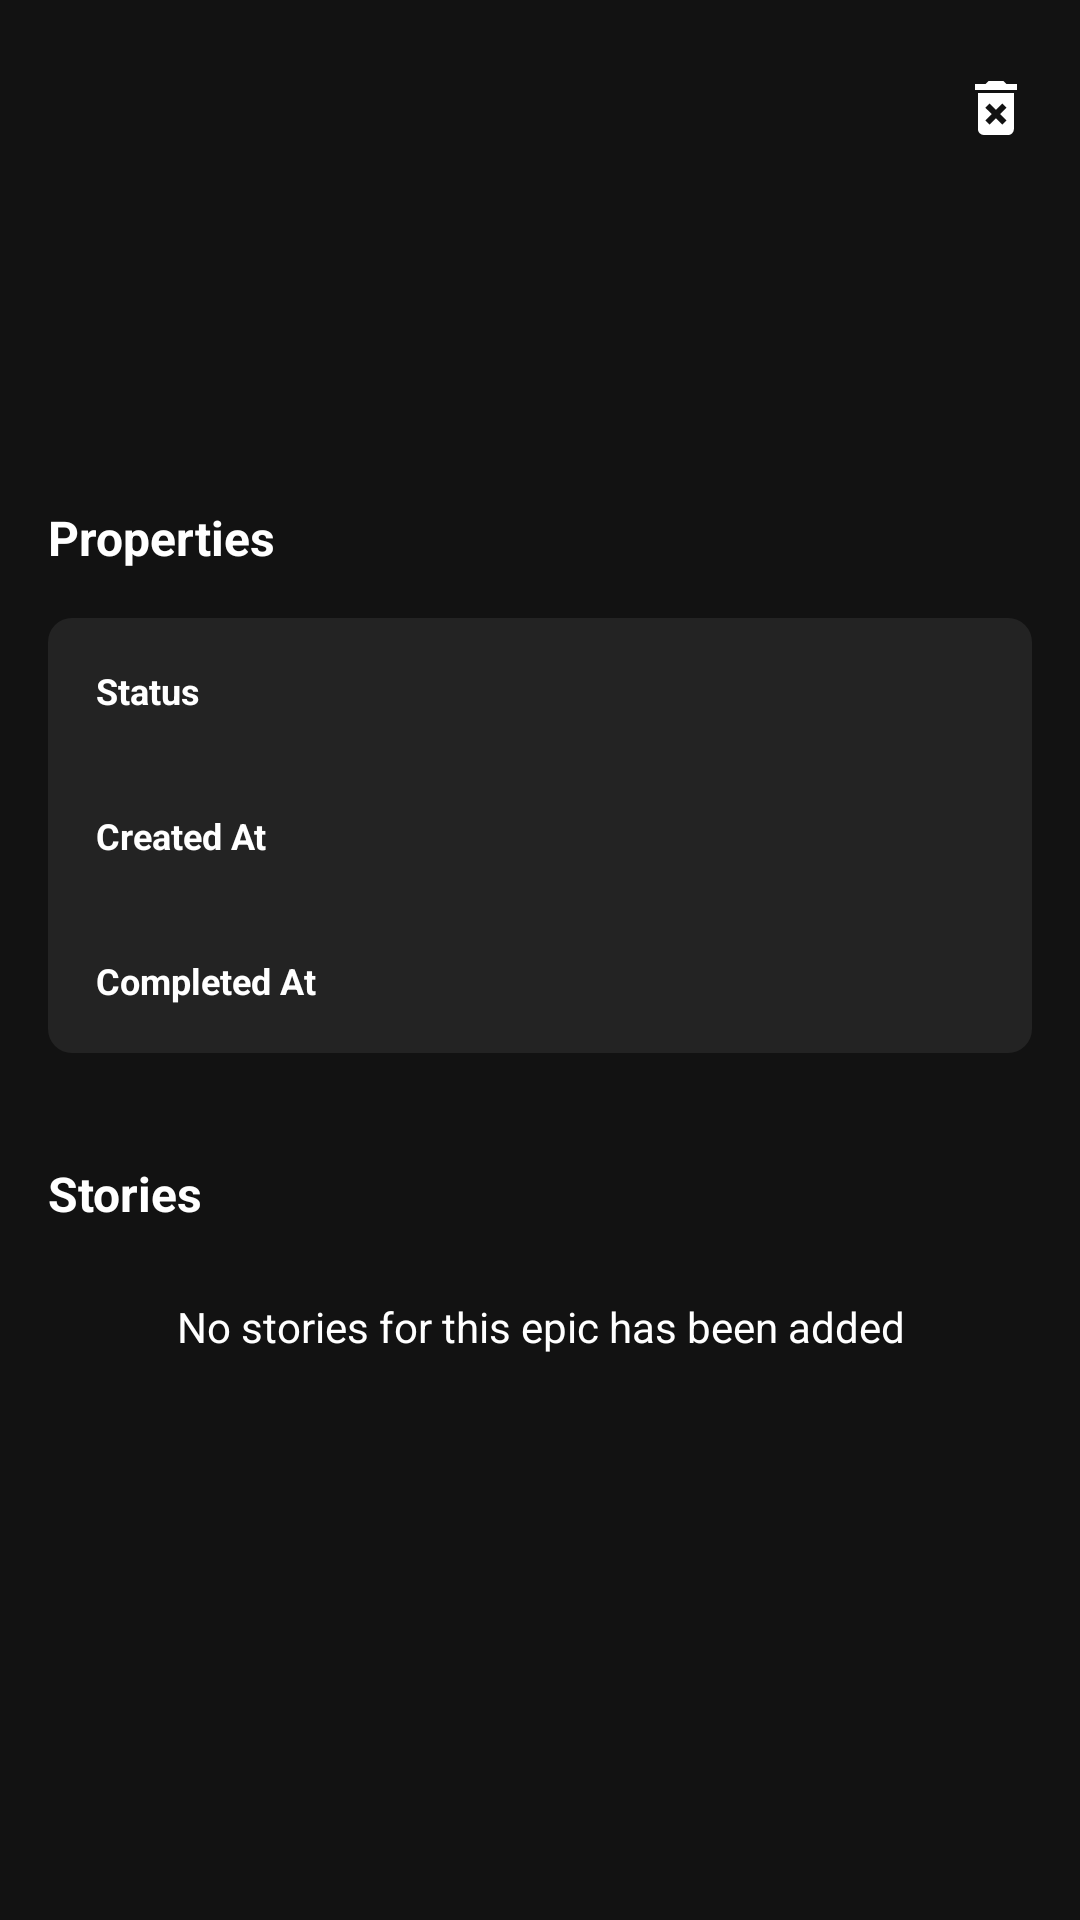

Screen size 1080 x 1920. Icon name, then its box in pixels as (x1, y1, x2, y2):
Delete epic: (975, 81, 1017, 135)
